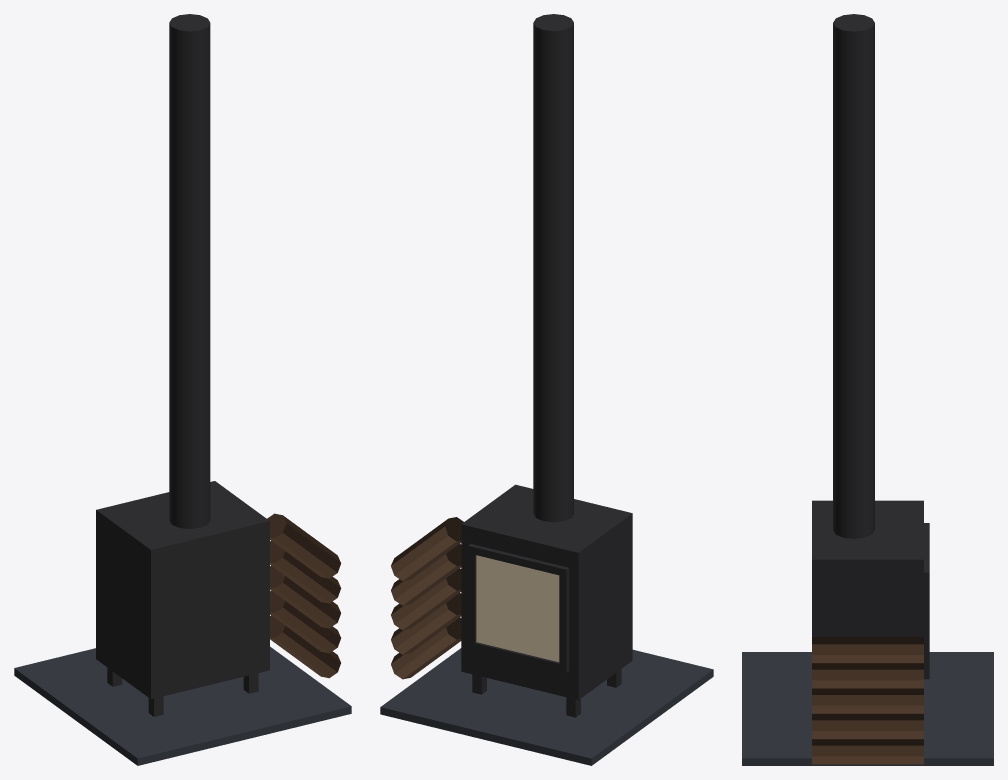
The model's file is home.lodge.log_burner.glb.
The picture shows the model from 3 angles, left to right: view 1: azimuth 30°, elevation 25°; view 2: azimuth 150°, elevation 25°; view 3: azimuth 270°, elevation 25°; orthographic projection. The views are drawn at different scales.
Parts seen in each view (by area): view 1: main__cast_iron, main__slate, main__bark; view 2: main__cast_iron, main__slate, main__bark, main__glow; view 3: main__cast_iron, main__slate, main__bark.
Boxes of the visible parts, x1=… form: main__cast_iron: x1=96, y1=14, x2=269, y2=716; main__slate: x1=14, y1=646, x2=351, y2=765; main__bark: x1=267, y1=513, x2=341, y2=678; main__cast_iron: x1=461, y1=14, x2=632, y2=717; main__slate: x1=380, y1=648, x2=713, y2=765; main__bark: x1=391, y1=517, x2=463, y2=679; main__glow: x1=476, y1=555, x2=559, y2=662; main__cast_iron: x1=812, y1=14, x2=929, y2=679; main__slate: x1=742, y1=652, x2=993, y2=765; main__bark: x1=812, y1=637, x2=923, y2=764.
Size of the model in its own units: 1 by 2.72 by 0.9.
